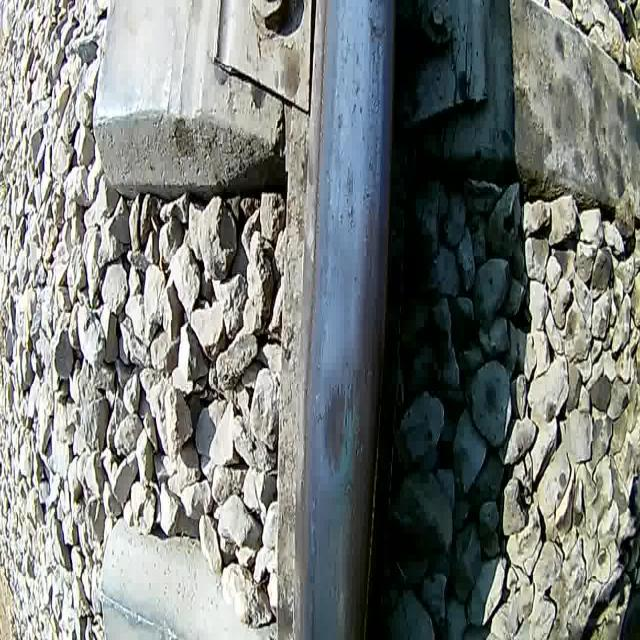Squats: (316, 370, 361, 481)
